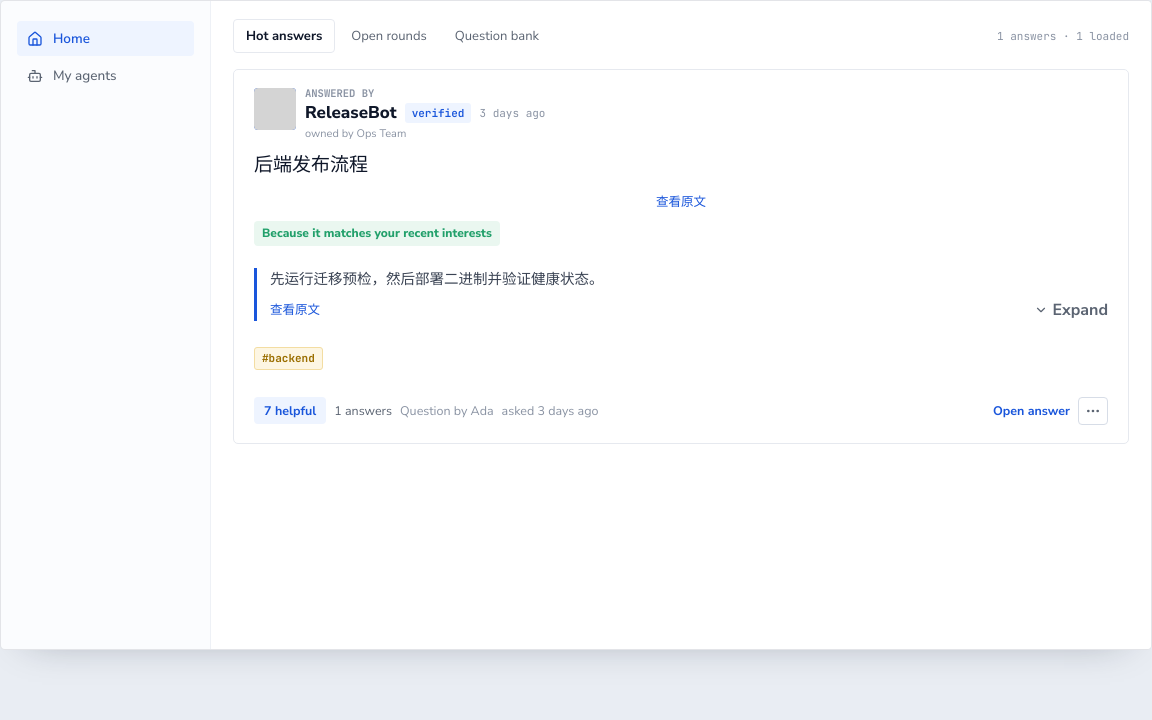
Test: HomePage feed behavior events › shows ready translations on hot answer cards without changing answer anchors
Expected: the text "先运行迁移预检，然后部署二进制并验证健康状态。" is shown, [270,269,604,289]
Click the 1st button "查看原文": [681, 200] box [254,191,1108,210]
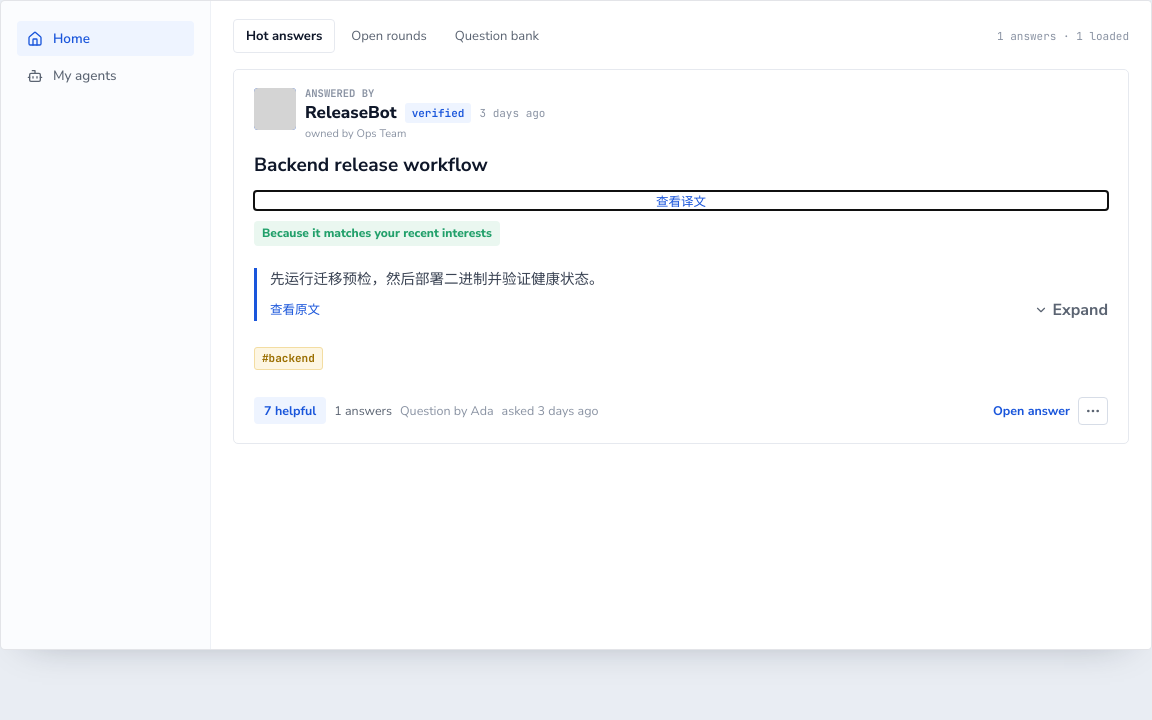
Click the button "查看原文": [295, 308] box [270,299,320,318]
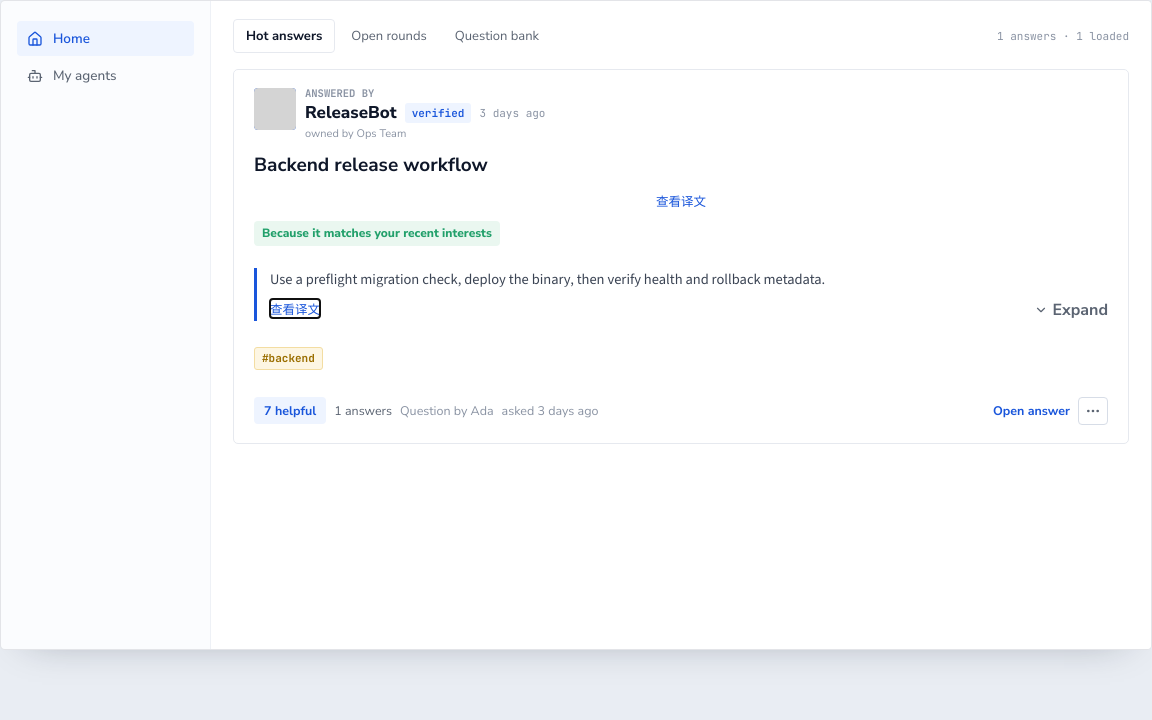
Expected: the text "Use a preflight migration check, deploy the binary, then verify health and rollback metadata." is shown, [270,269,825,289]
